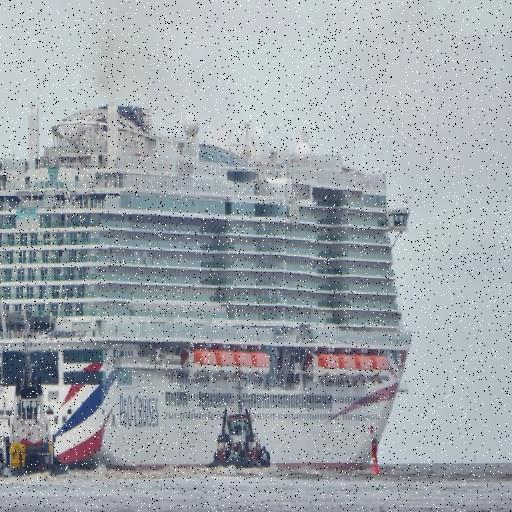cruises: (1, 91, 417, 483)
